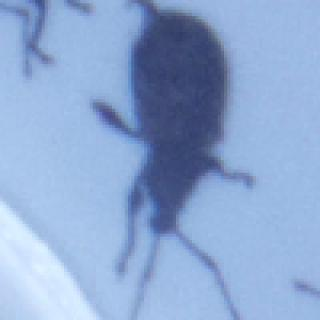bvw: (91, 0, 253, 320)
